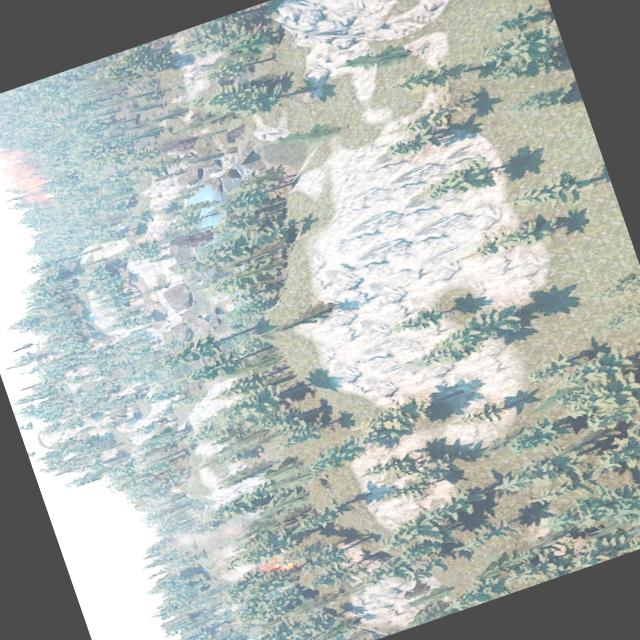fire: (264, 552, 296, 576), (34, 188, 56, 204)
smoke: (0, 141, 49, 209)
